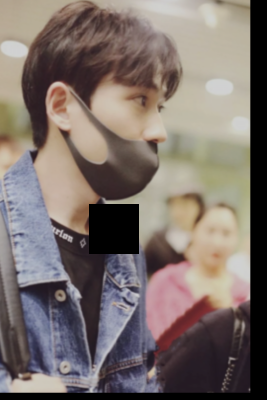mask_weared_incorrect: (68, 89, 167, 199)
